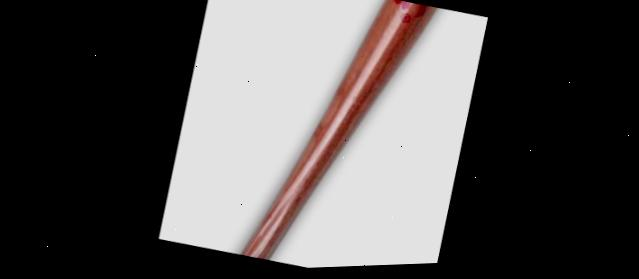baseball bat: (152, 0, 492, 275)
